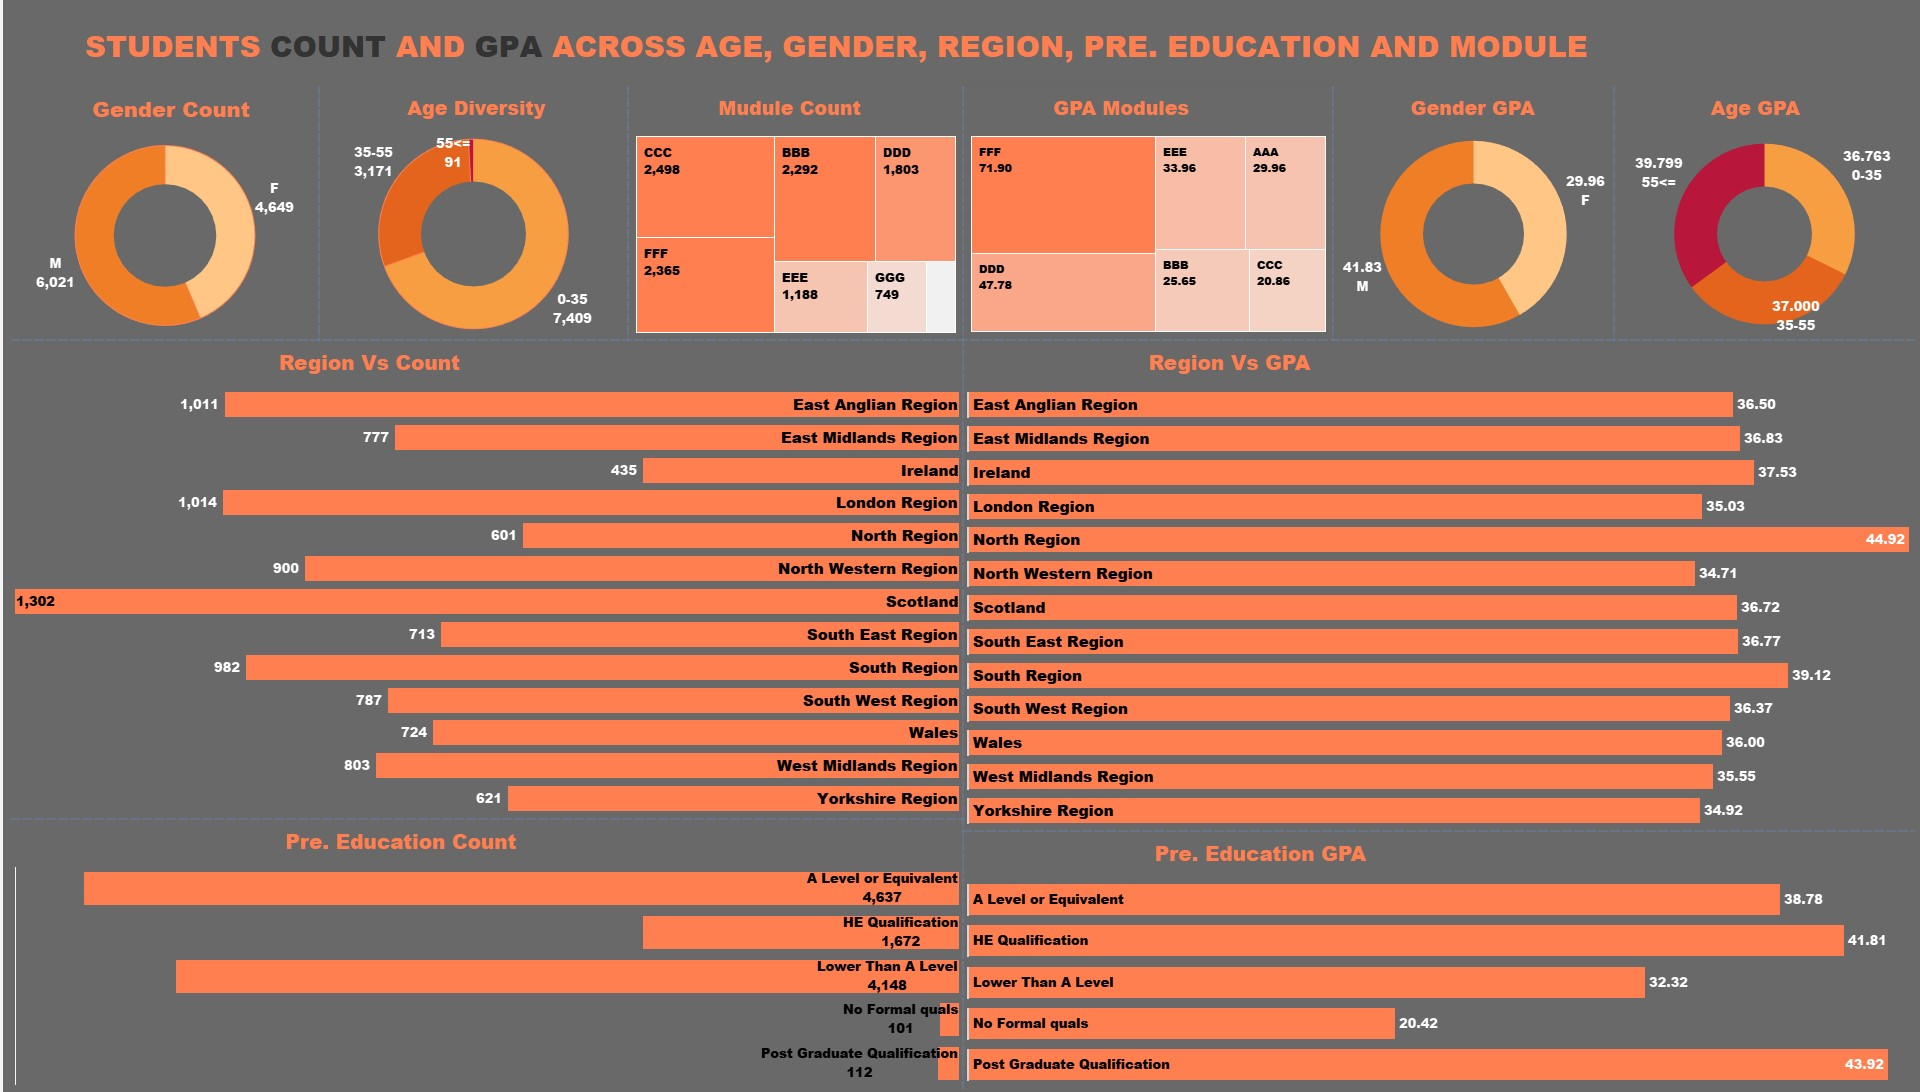

Layout of this report page (visuals, bound fields, positions):
{"tool":"tableau","page":{"name":"Dashboard 3","canvas":[1920,1100],"ordinal":1},"visuals":[{"type":"text","box":[8,8,1904,81]},{"type":"worksheet","title":"Gender Count","mark":"Pie","rows":["Calculation_1106759616168468488","Calculation_1106759616168468488"],"box":[8,89,308,254]},{"type":"worksheet","title":"Age Groups cmt","mark":"Pie","rows":["Calculation_1106759616168468488","Calculation_1106759616168468488"],"box":[316,89,309,254]},{"type":"worksheet","title":"Code Mudule Count","mark":"Automatic","box":[625,89,335,254]},{"type":"worksheet","title":"GPA mean Code Module ","mark":"Automatic","box":[960,89,370.2,254]},{"type":"worksheet","title":"GPA mean /Gender","mark":"Pie","rows":["Calculation_1106759616168468488","Calculation_1106759616168468488"],"box":[1330.2,89,281.2,254]},{"type":"worksheet","title":"Age Group GPA","mark":"Pie","rows":["Calculation_1106759616168468488","Calculation_1106759616168468488"],"box":[1611.3,89,300.7,254]},{"type":"worksheet","title":"Region Count","mark":"Bar","rows":["region"],"cols":["id_student","Calculation_1106759616165330951"],"box":[8,343,952,479]},{"type":"worksheet","title":"Region GPA","mark":"Bar","rows":["region"],"cols":["student_module_gpa","Calculation_966022127720304641"],"box":[960,343,952,479]},{"type":"worksheet","title":"Education Count","mark":"Bar","rows":["highest_education"],"cols":["id_student","Calculation_1106759616162770947"],"box":[8,822,952,270]},{"type":"worksheet","title":"GPA Education","mark":"Bar","rows":["highest_education"],"cols":["student_module_gpa","Calculation_1106759616168468488"],"box":[960,822,952,270]}]}

Visuals, with their boxes in screenshot pixels (x1, y1, x2, y2), scaled from the page's 1920x1100 canvas onto the 1920x1092 screenshot:
text: rect(8, 8, 1912, 88)
"Gender Count" worksheet (Pie marks): rect(8, 88, 316, 341)
"Age Groups cmt" worksheet (Pie marks): rect(316, 88, 625, 341)
"Code Mudule Count" worksheet: rect(625, 88, 960, 341)
"GPA mean Code Module " worksheet: rect(960, 88, 1330, 341)
"GPA mean /Gender" worksheet (Pie marks): rect(1330, 88, 1611, 341)
"Age Group GPA" worksheet (Pie marks): rect(1611, 88, 1912, 341)
"Region Count" worksheet (Bar marks): rect(8, 341, 960, 816)
"Region GPA" worksheet (Bar marks): rect(960, 341, 1912, 816)
"Education Count" worksheet (Bar marks): rect(8, 816, 960, 1084)
"GPA Education" worksheet (Bar marks): rect(960, 816, 1912, 1084)
